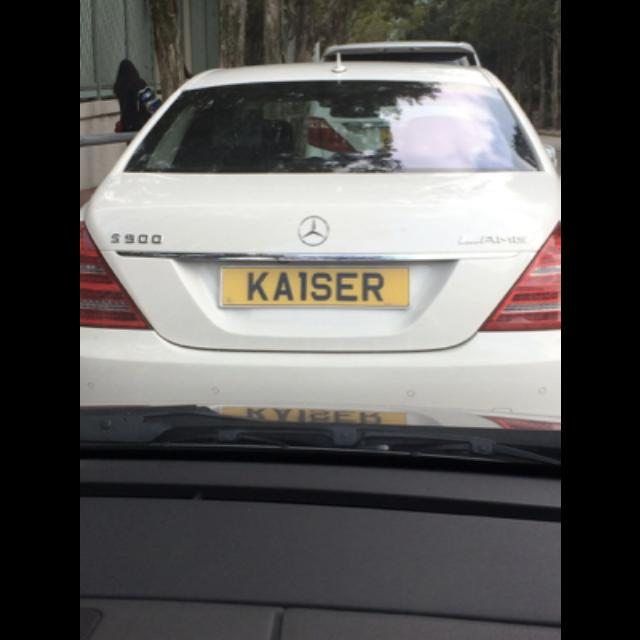carPlate: (218, 266, 410, 308)
